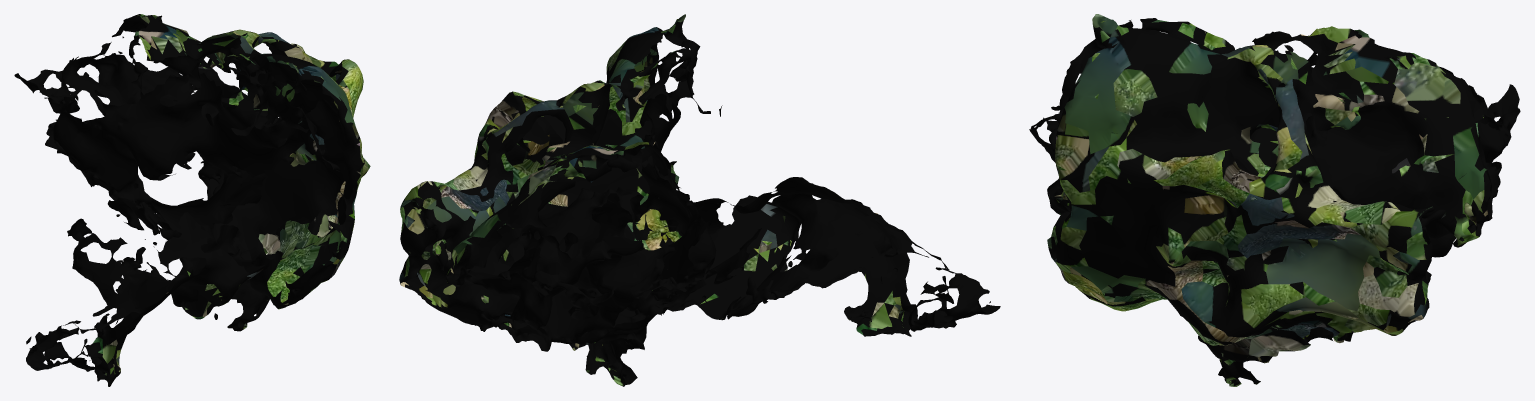
File: hueso.obj
3 views of the same model, side by side, from view 1: azimuth 30°, elevation 25°; view 2: azimuth 150°, elevation 25°; view 3: azimuth 270°, elevation 25° (orthographic). The views are drawn at different scales.
Bounding box in the file's own units: 2.96 × 2.11 × 2.53.
